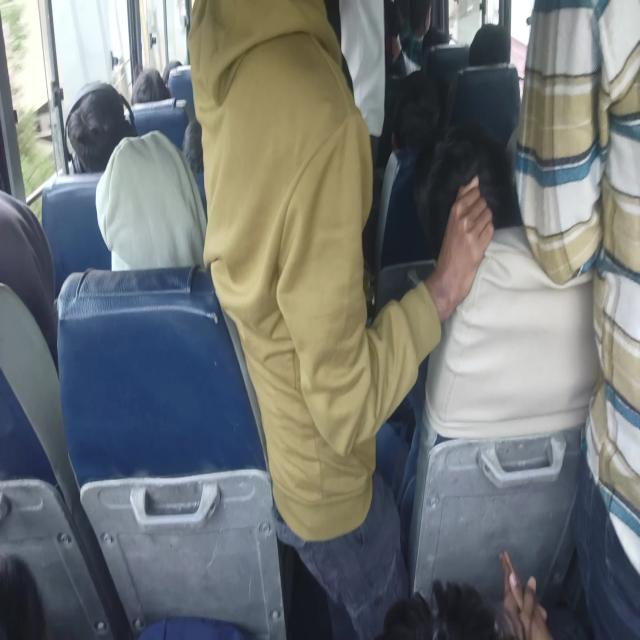person: (34, 76, 271, 635), (522, 0, 639, 583), (190, 0, 335, 105), (414, 124, 518, 260), (0, 188, 59, 379), (40, 173, 112, 302), (444, 20, 515, 146), (65, 85, 135, 173), (390, 69, 441, 154), (0, 554, 48, 638), (468, 22, 511, 68), (130, 66, 172, 105), (182, 120, 204, 176), (422, 25, 452, 61)
